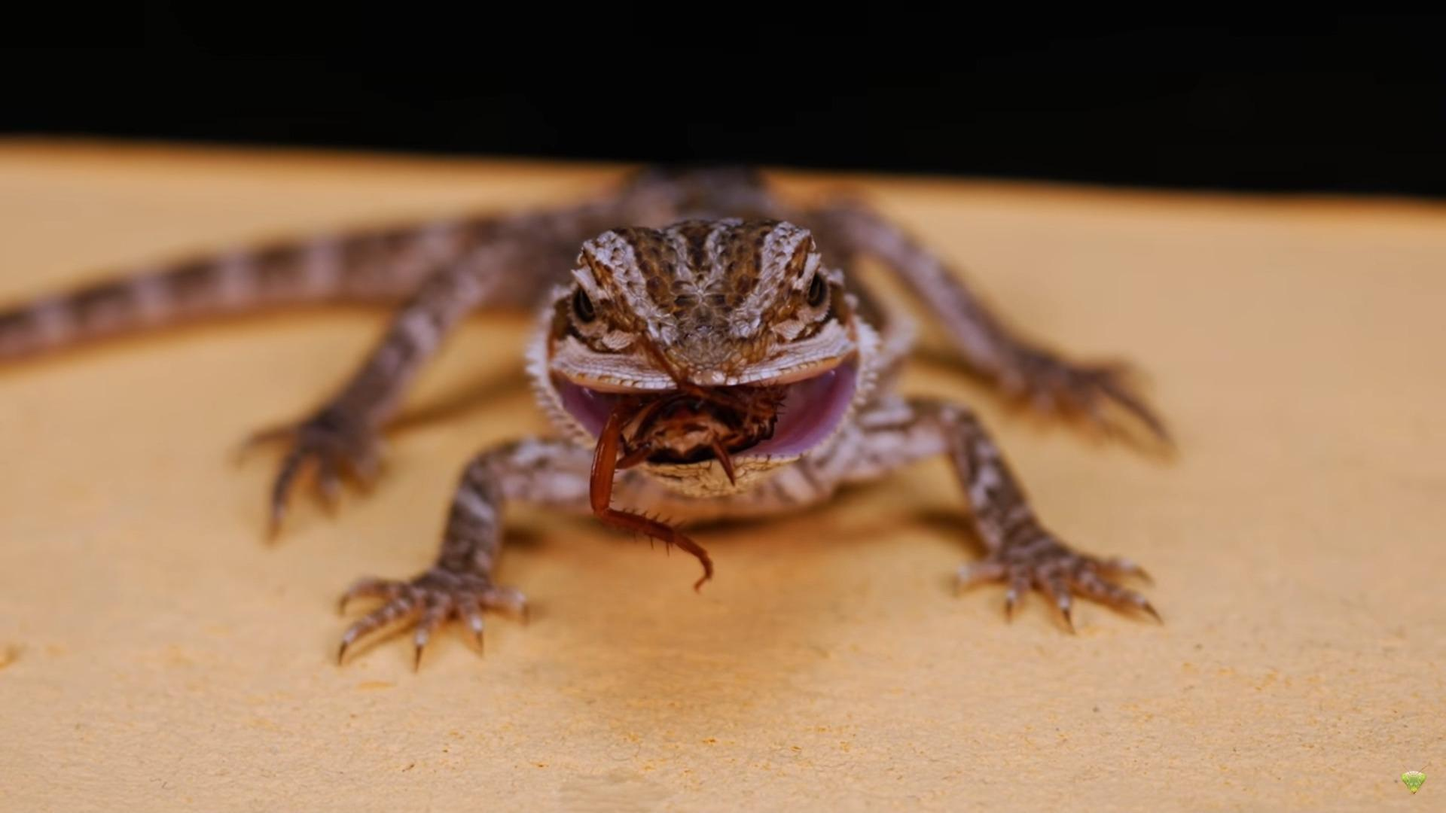cockroach: (584, 395, 777, 593)
lizard: (334, 213, 1170, 694)
